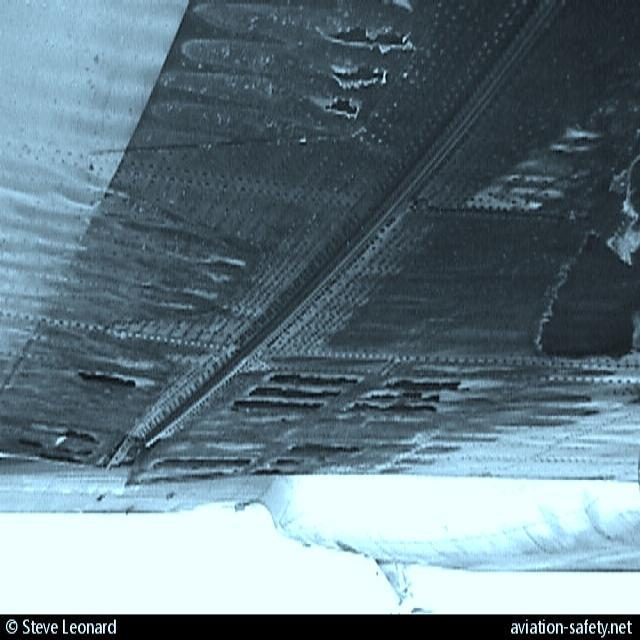crack: (301, 19, 424, 123), (73, 367, 142, 394)
